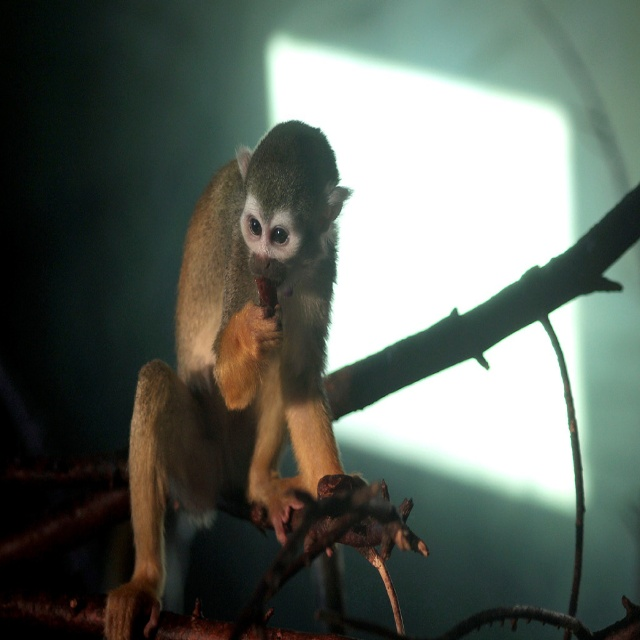Monkey: (106, 121, 346, 639)
